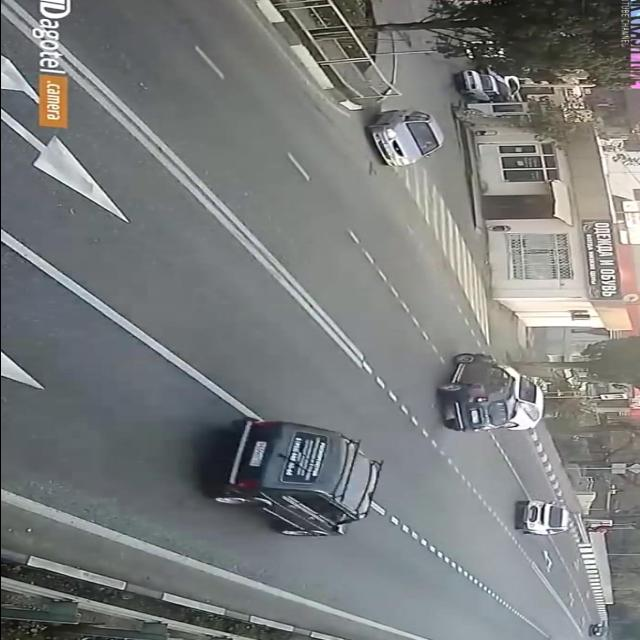accident: (422, 348, 550, 442)
